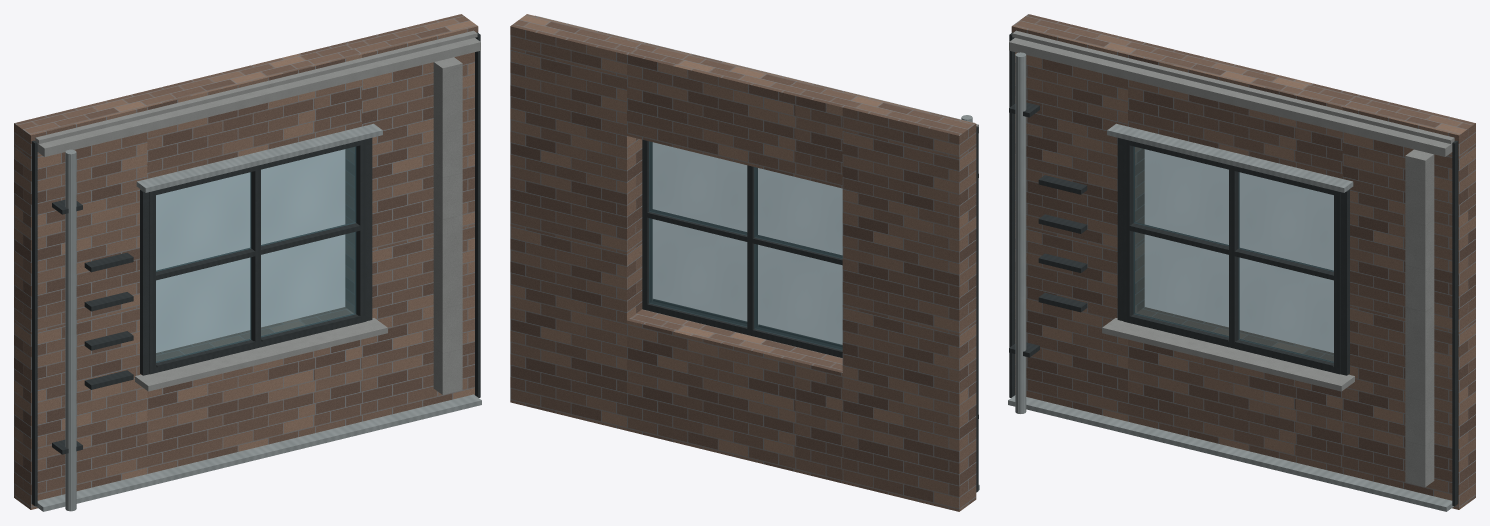
Rendered from PZ_FACADE_4m_Window_Brick_Upper_Louvres.glb.
3 renders of one model, left to right at view 1: azimuth 30°, elevation 25°; view 2: azimuth 150°, elevation 25°; view 3: azimuth 330°, elevation 25°, orthographic.
Parts seen in each view (by area): view 1: F02_B01_Wall_LeftPier, F02_B01_Wall_RightPier, F02_B01_Wall_SillSpandrel, F02_B01_Wall_Header, F02_B01_Brick_Accented_Vertical_Fin, F02_B01_GLASS_BREAKABLE_Left_Lower, F02_B01_GLASS_BREAKABLE_Right_Lower, F02_B01_GLASS_BREAKABLE_Left_Upper, F02_B01_GLASS_BREAKABLE_Right_Upper, F02_B01_FireStop_StoreyBand, F02_B01_Facade_BaseFlashing, F02_B01_DOWNSPOUT_RoundPipe (+14 smaller); view 2: F02_B01_Wall_LeftPier, F02_B01_Wall_RightPier, F02_B01_Wall_SillSpandrel, F02_B01_Wall_Header, F02_B01_GLASS_BREAKABLE_Right_Lower, F02_B01_GLASS_BREAKABLE_Left_Lower, F02_B01_GLASS_BREAKABLE_Right_Upper, F02_B01_GLASS_BREAKABLE_Left_Upper, F02_B01_Window_Frame_Bottom, F02_B01_Window_Crossbar, F02_B01_Window_Frame_Right, F02_B01_Window_Mullion (+1 smaller); view 3: F02_B01_Wall_RightPier, F02_B01_Wall_LeftPier, F02_B01_Wall_SillSpandrel, F02_B01_Wall_Header, F02_B01_Brick_Accented_Vertical_Fin, F02_B01_GLASS_BREAKABLE_Right_Lower, F02_B01_GLASS_BREAKABLE_Left_Lower, F02_B01_GLASS_BREAKABLE_Left_Upper, F02_B01_GLASS_BREAKABLE_Right_Upper, F02_B01_FireStop_StoreyBand, F02_B01_Facade_BaseFlashing, F02_B01_DOWNSPOUT_RoundPipe (+14 smaller).
Part boxes in pixels (x1,y1,x2,y2): F02_B01_Wall_LeftPier: [14, 95, 147, 509]; F02_B01_Wall_RightPier: [345, 14, 478, 421]; F02_B01_Wall_SillSpandrel: [147, 307, 361, 473]; F02_B01_Wall_Header: [130, 42, 361, 178]; F02_B01_Brick_Accented_Vertical_Fin: [433, 57, 462, 394]; F02_B01_GLASS_BREAKABLE_Left_Lower: [156, 257, 251, 362]; F02_B01_GLASS_BREAKABLE_Right_Lower: [261, 232, 356, 337]; F02_B01_GLASS_BREAKABLE_Left_Upper: [156, 172, 251, 271]; F02_B01_GLASS_BREAKABLE_Right_Upper: [261, 146, 356, 245]; F02_B01_FireStop_StoreyBand: [37, 38, 480, 156]; F02_B01_Facade_BaseFlashing: [36, 394, 481, 511]; F02_B01_DOWNSPOUT_RoundPipe: [65, 149, 76, 511]; F02_B01_Wall_LeftPier: [842, 95, 976, 511]; F02_B01_Wall_RightPier: [510, 14, 643, 430]; F02_B01_Wall_SillSpandrel: [627, 309, 842, 483]; F02_B01_Wall_Header: [627, 42, 858, 188]; F02_B01_GLASS_BREAKABLE_Right_Lower: [649, 218, 747, 326]; F02_B01_GLASS_BREAKABLE_Left_Lower: [754, 244, 842, 350]; F02_B01_GLASS_BREAKABLE_Right_Upper: [649, 141, 747, 235]; F02_B01_GLASS_BREAKABLE_Left_Upper: [754, 167, 842, 258]; F02_B01_Window_Frame_Bottom: [642, 301, 842, 357]; F02_B01_Window_Crossbar: [647, 209, 842, 265]; F02_B01_Window_Frame_Right: [642, 139, 652, 310]; F02_B01_Window_Mullion: [747, 165, 757, 329]; F02_B01_Wall_RightPier: [1342, 95, 1475, 509]; F02_B01_Wall_LeftPier: [1011, 14, 1144, 421]; F02_B01_Wall_SillSpandrel: [1128, 307, 1342, 473]; F02_B01_Wall_Header: [1128, 42, 1359, 178]; F02_B01_Brick_Accented_Vertical_Fin: [1405, 149, 1434, 487]; F02_B01_GLASS_BREAKABLE_Right_Lower: [1238, 257, 1333, 362]; F02_B01_GLASS_BREAKABLE_Left_Lower: [1133, 232, 1228, 337]; F02_B01_GLASS_BREAKABLE_Left_Upper: [1133, 146, 1228, 245]; F02_B01_GLASS_BREAKABLE_Right_Upper: [1238, 172, 1333, 271]; F02_B01_FireStop_StoreyBand: [1009, 38, 1452, 156]; F02_B01_Facade_BaseFlashing: [1008, 395, 1453, 511]; F02_B01_DOWNSPOUT_RoundPipe: [1015, 52, 1026, 413].
Size of the model in its own units: 4 by 3.2 by 0.543.
5 materials, 5 textured.
